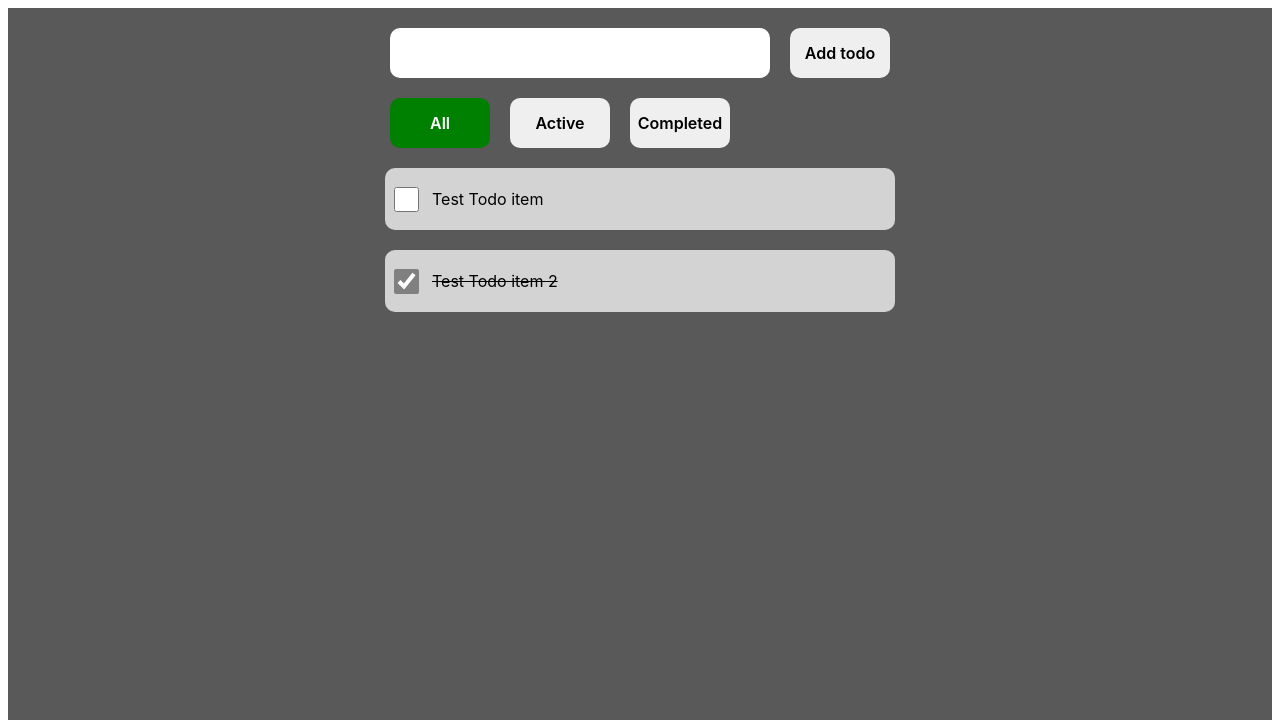
Scenario: Test App › Test ToDoButtonsFilter › Click on buttons works correctly
Click the button "Active" at (560, 123), box [510, 98, 610, 148]
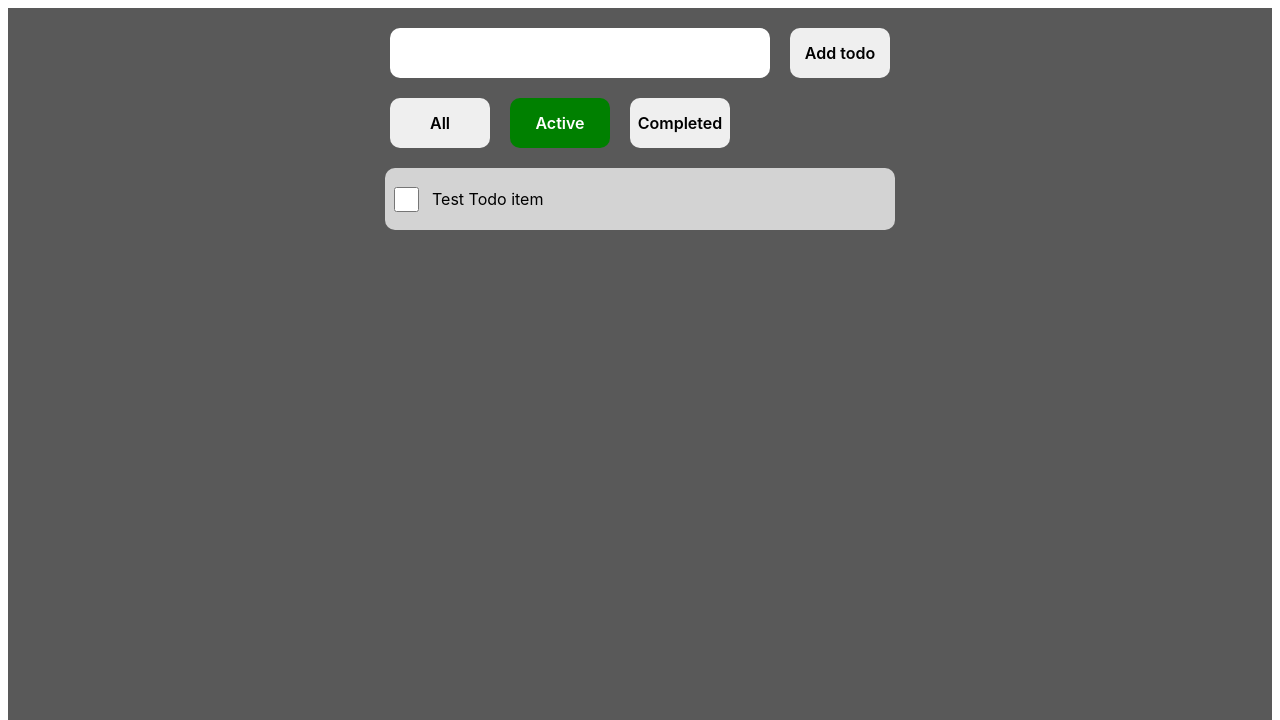
Expected: the list item "Test Todo item" is shown, [385, 168, 895, 230]
Expected: the number of list items is 1, [385, 168, 895, 230]
Click the button "Completed" at (680, 123), box [630, 98, 730, 148]
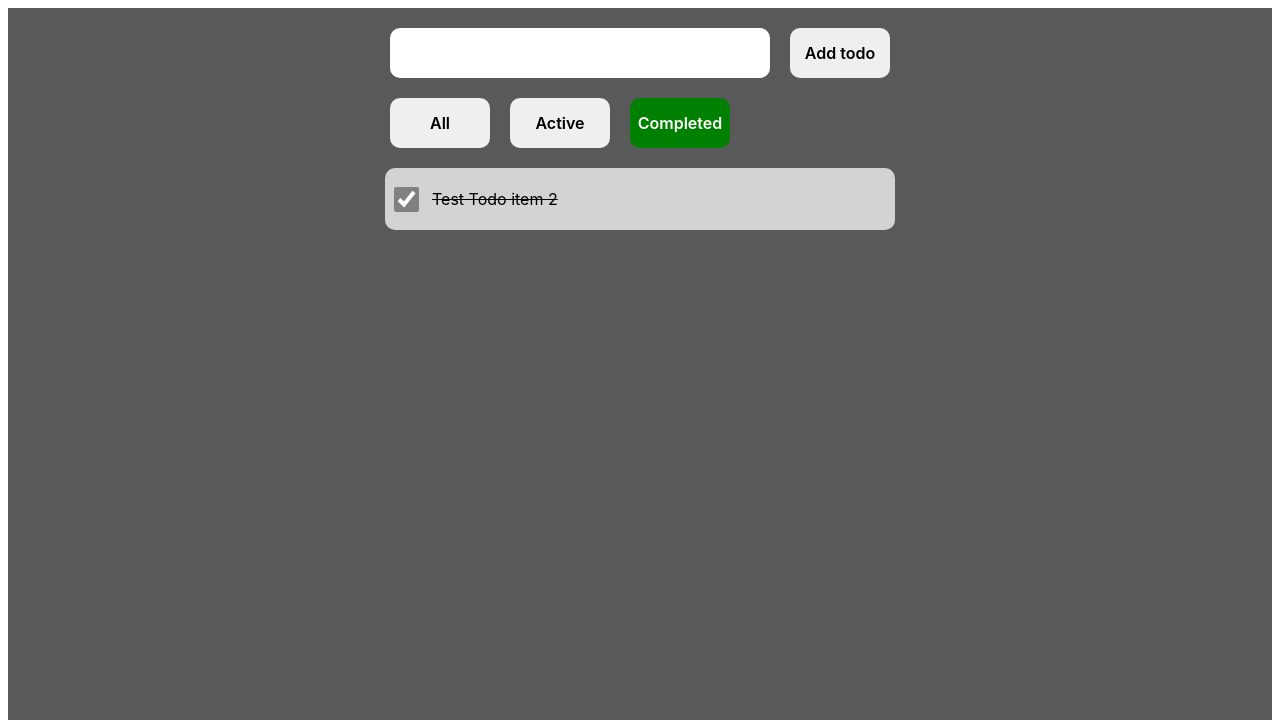
Expected: the number of list items is 1, [385, 168, 895, 230]
Expected: the list item "Test Todo item 2" is shown, [385, 168, 895, 230]
